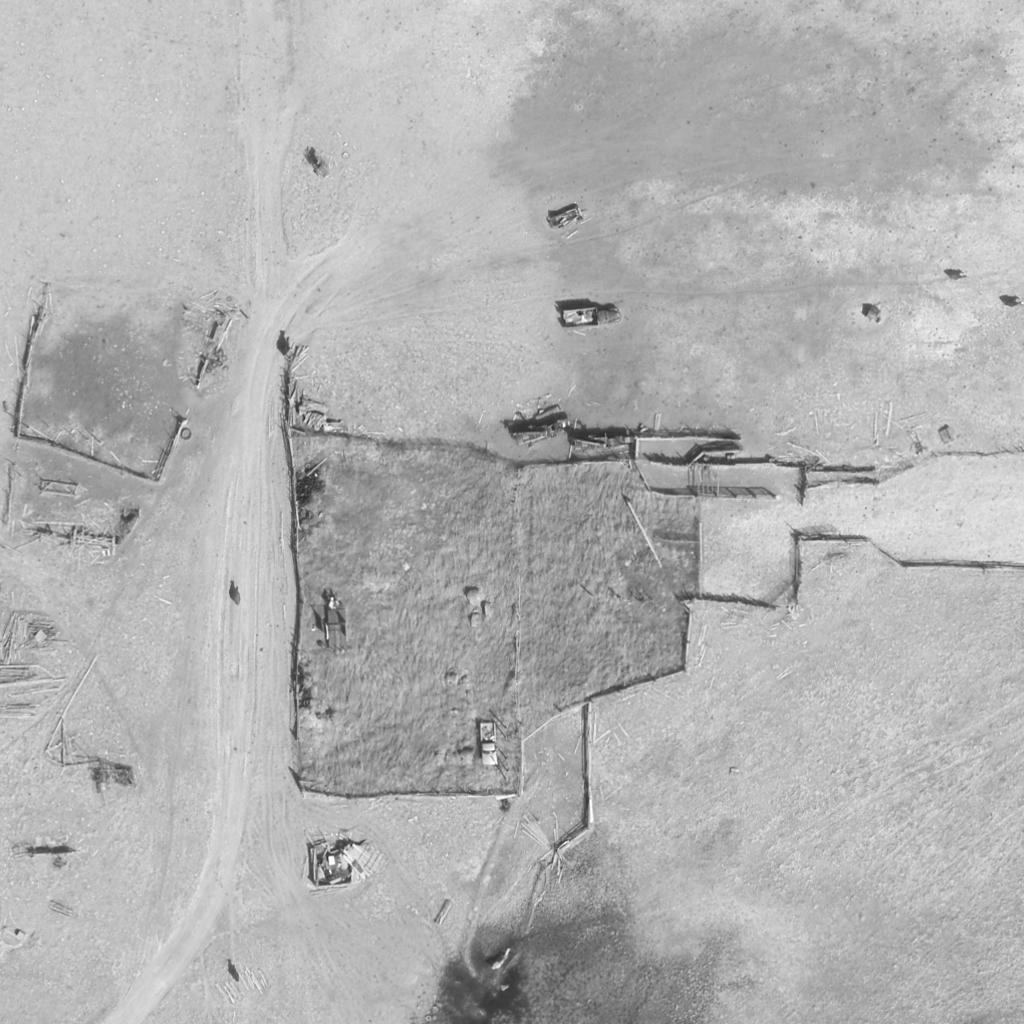vehicle: (559, 306, 623, 330), (478, 720, 498, 768)
